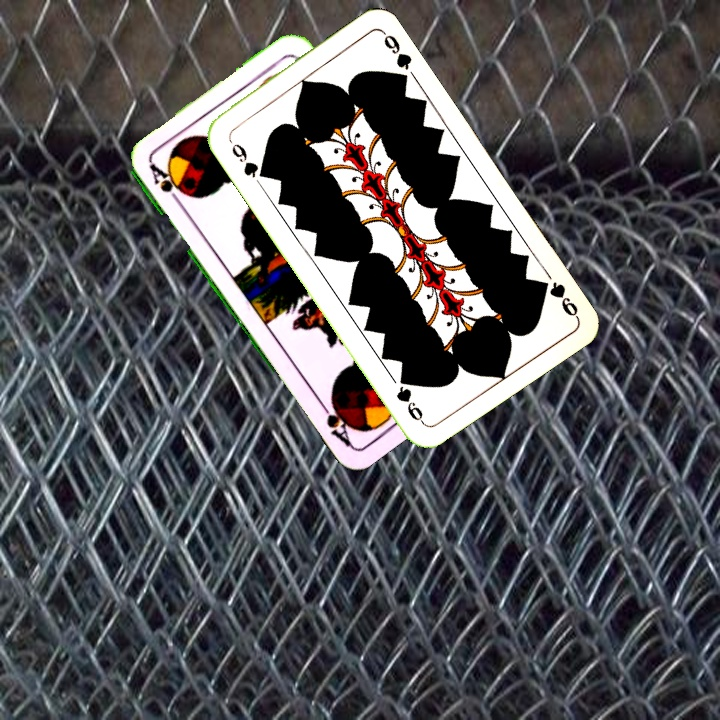G9: (224, 133, 269, 181), (533, 276, 581, 320)
SA: (145, 159, 187, 212)
